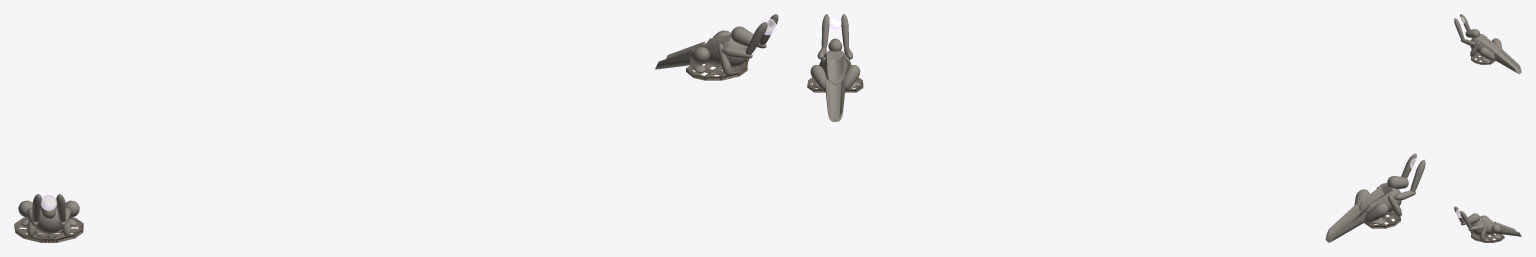
File: Bowling Ramp Arms Raised.fbx
3 views of the same model, side by side, from view 1: azimuth 30°, elevation 25°; view 2: azimuth 150°, elevation 25°; view 3: azimuth 270°, elevation 25° (orthographic). The views are drawn at different scales.
Parts seen in each view (by area): view 1: Plane.009, Roundcube.023, Roundcube.028, Roundcube.025, Roundcube.022, Cylinder.039, Roundcube.026, Roundcube.027, Sphere.007; view 2: Cylinder.039, Roundcube.023, Roundcube.025, Roundcube.028, Plane.009, Roundcube.022; view 3: Roundcube.023, Cylinder.039, Roundcube.028, Plane.009, Roundcube.025, Roundcube.022, Roundcube.027, Roundcube.026, Sphere.007, Roundcube.024.
Part boxes in pixels (left/top/right/bottom): Plane.009: left=14, top=62, right=747, bottom=242; Roundcube.023: left=35, top=34, right=747, bottom=234; Roundcube.028: left=32, top=14, right=778, bottom=222; Roundcube.025: left=18, top=30, right=731, bottom=218; Roundcube.022: left=41, top=26, right=753, bottom=218; Cylinder.039: left=655, top=41, right=705, bottom=69; Roundcube.026: left=27, top=44, right=749, bottom=237; Roundcube.027: left=27, top=42, right=766, bottom=225; Sphere.007: left=40, top=18, right=776, bottom=210; Cylinder.039: left=825, top=79, right=1366, bottom=242; Roundcube.023: left=822, top=50, right=1401, bottom=212; Roundcube.025: left=810, top=65, right=1388, bottom=222; Roundcube.028: left=821, top=14, right=1425, bottom=191; Plane.009: left=807, top=77, right=1400, bottom=228; Roundcube.022: left=828, top=38, right=1408, bottom=188; Roundcube.023: left=1470, top=34, right=1498, bottom=235; Cylinder.039: left=1494, top=48, right=1521, bottom=236; Roundcube.028: left=1454, top=14, right=1471, bottom=228; Plane.009: left=1471, top=52, right=1504, bottom=242; Roundcube.025: left=1479, top=38, right=1502, bottom=234; Roundcube.022: left=1465, top=29, right=1479, bottom=224; Roundcube.027: left=1460, top=33, right=1485, bottom=230; Roundcube.026: left=1470, top=36, right=1487, bottom=240; Sphere.007: left=1455, top=17, right=1464, bottom=217; Roundcube.024: left=1481, top=58, right=1501, bottom=238.
Size of the model in its own units: 49.94 by 5.01 by 7.2.
